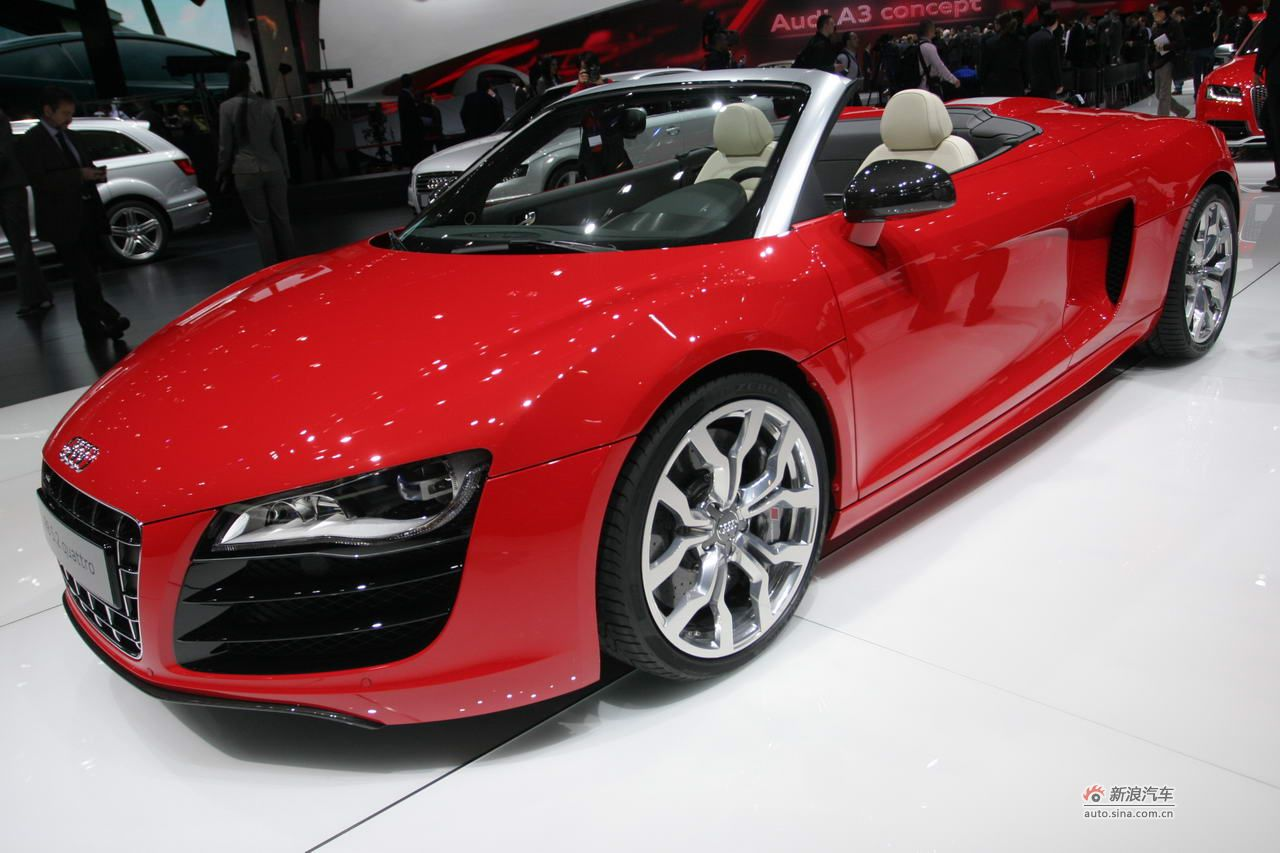front_view: (20, 73, 251, 161)
headlight: (189, 73, 243, 105)
